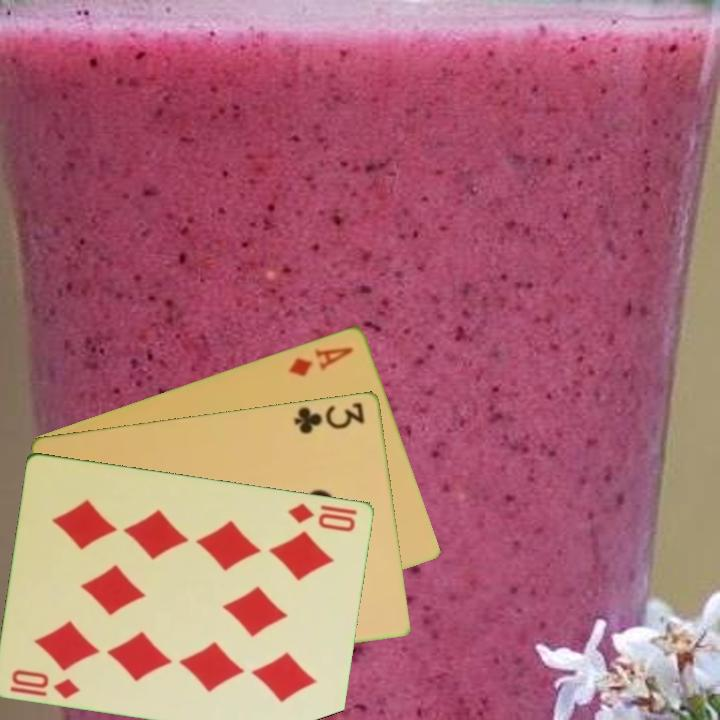10d: (7, 665, 84, 702), (285, 499, 360, 535)
3c: (291, 398, 368, 436)
Ad: (285, 342, 356, 379)
